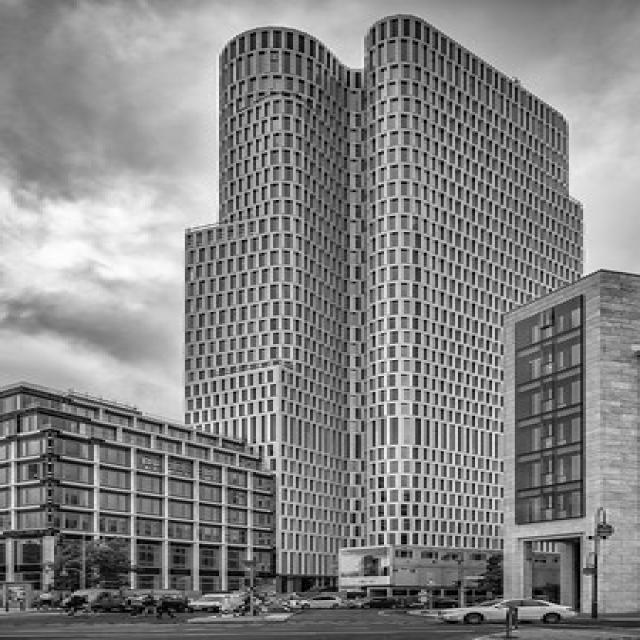Normal_building: (169, 14, 593, 632)
